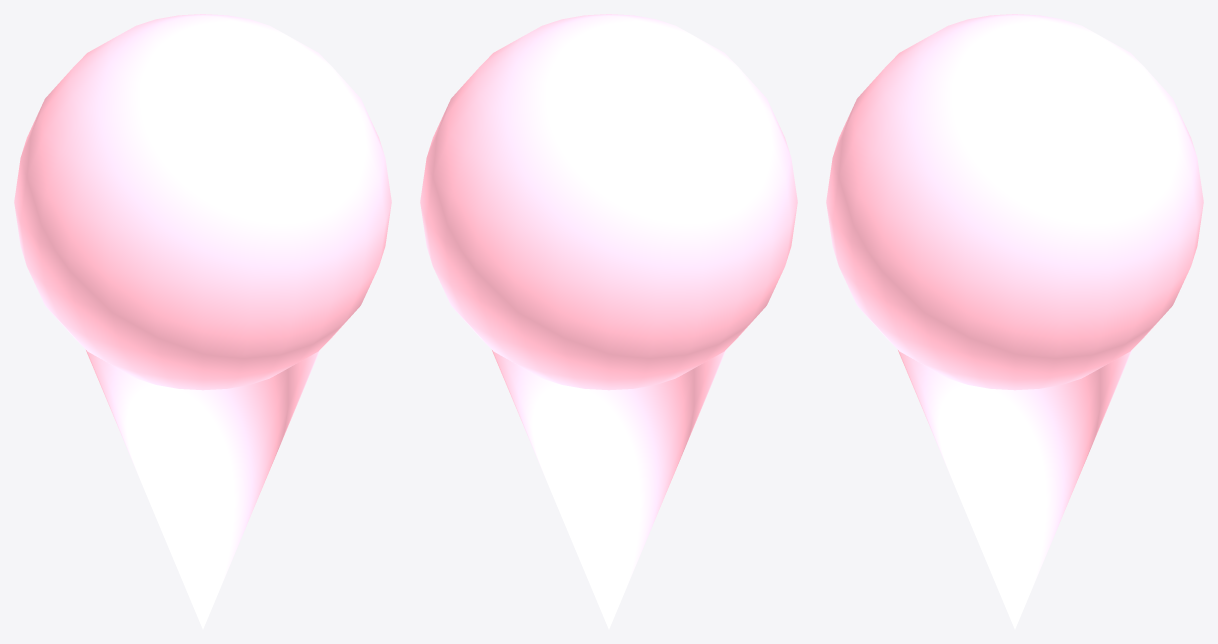
The model's file is firstaid.glb.
3 views of the same model, side by side, from view 1: azimuth 30°, elevation 25°; view 2: azimuth 150°, elevation 25°; view 3: azimuth 270°, elevation 25° (orthographic).
Size of the model in its own units: 0.08 by 0.14 by 0.08.
